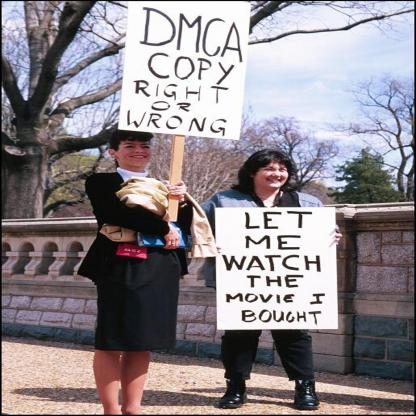face: (116, 138, 153, 167), (256, 160, 289, 190)
